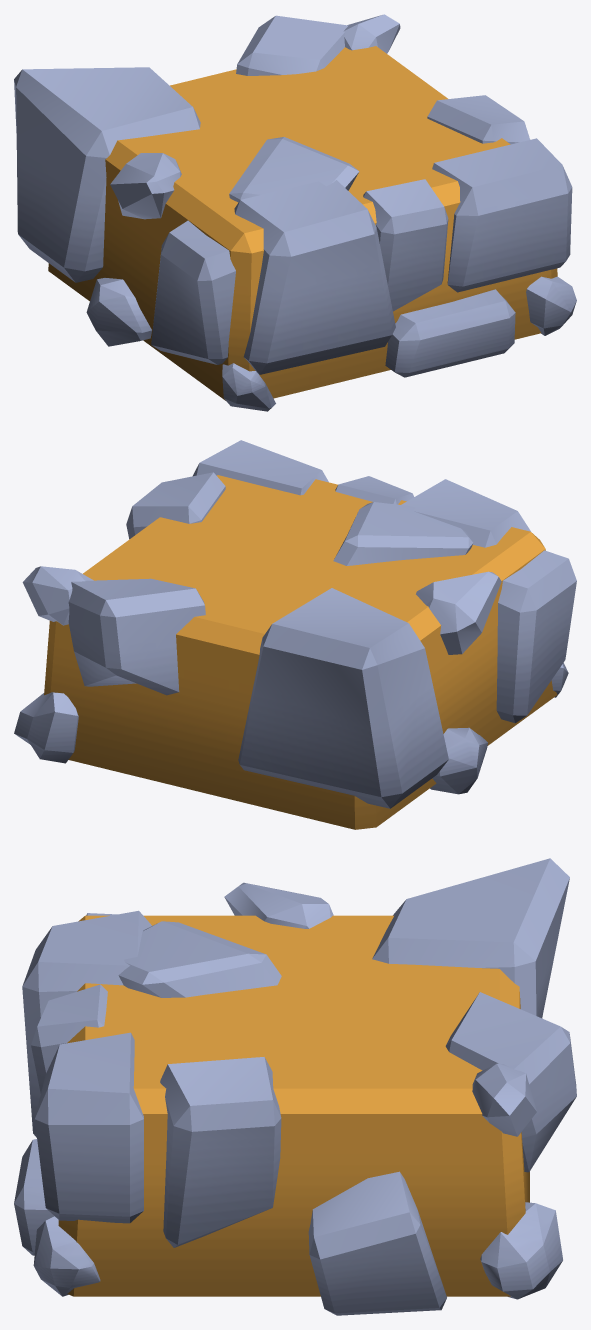
The model's file is Rock_Platform.fbx.
3 views of the same model, one above another, from view 1: azimuth 30°, elevation 25°; view 2: azimuth 150°, elevation 25°; view 3: azimuth 270°, elevation 25° (orthographic). The views are drawn at different scales.
Parts seen in each view (by area): view 1: RockPlatform; view 2: RockPlatform; view 3: RockPlatform.
Boxes of the visible parts, x1,y1,x2,y2 form: RockPlatform: [14, 14, 576, 411]; RockPlatform: [14, 440, 576, 829]; RockPlatform: [14, 858, 576, 1315].
Bounding box in the file's own units: 1.22 × 0.6126 × 1.23.
